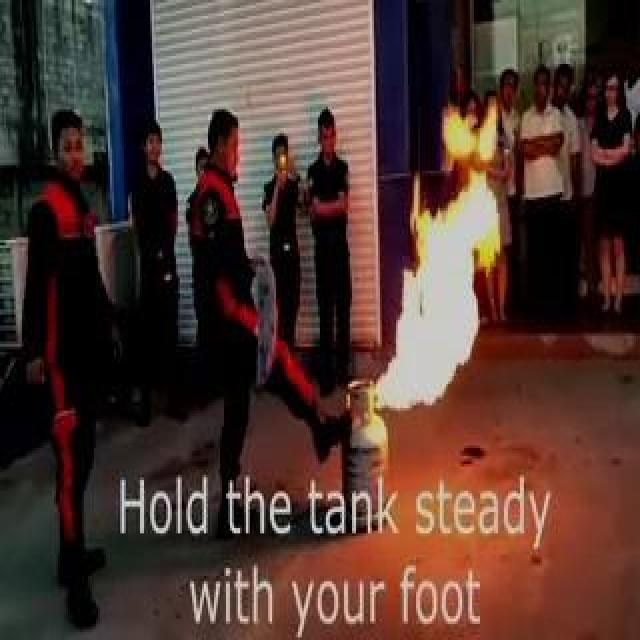Fire: (371, 104, 505, 411)
